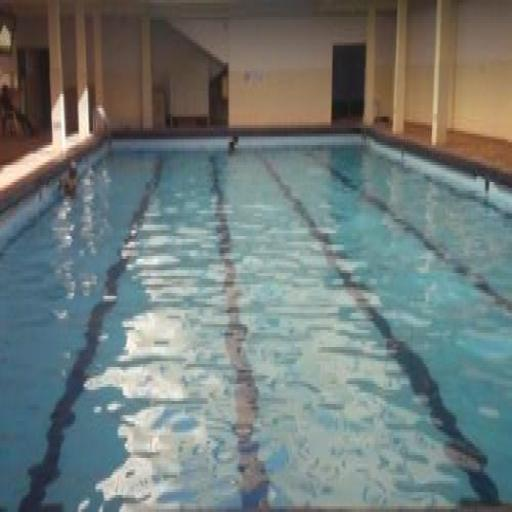swimming: (56, 154, 81, 208)
